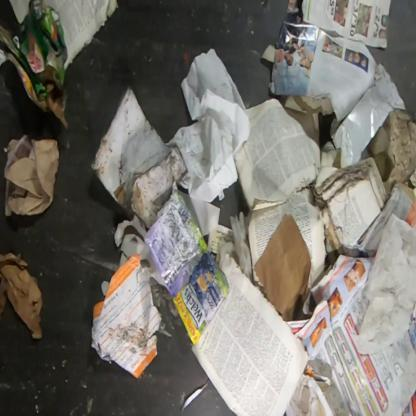cardboard: (0, 0, 69, 131), (0, 253, 43, 342)
soft_plastic: (144, 191, 230, 346)
